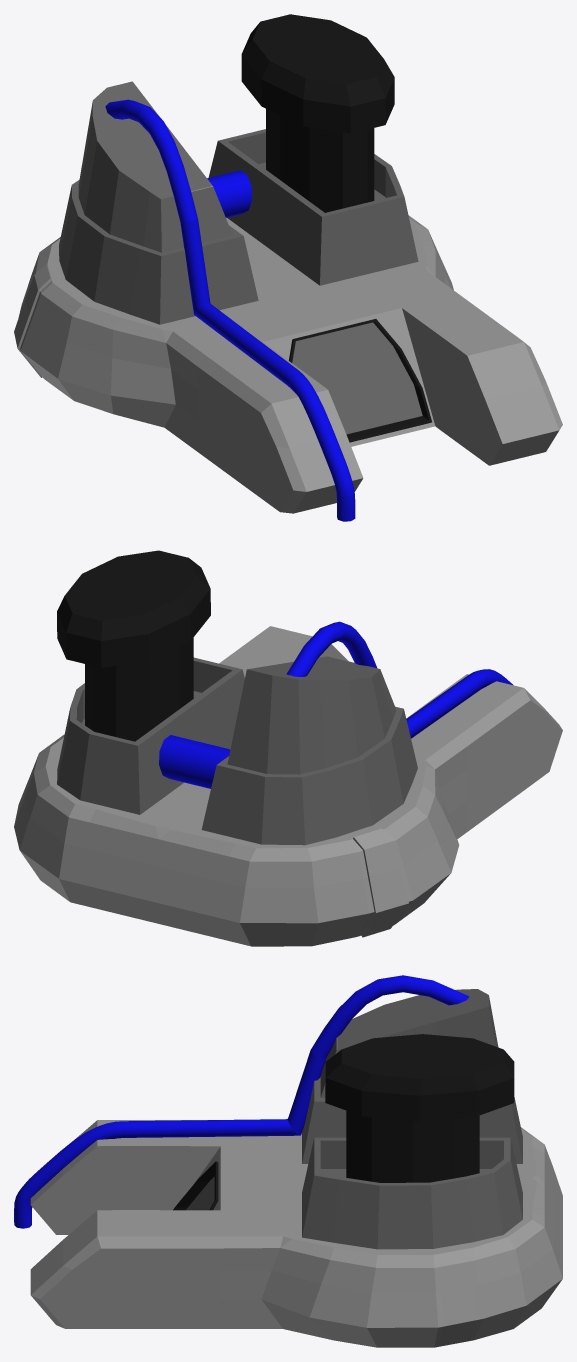
File: Tech_Lab_Human.FBX
The picture shows the model from 3 angles, top to bottom: view 1: azimuth 30°, elevation 25°; view 2: azimuth 150°, elevation 25°; view 3: azimuth 270°, elevation 25°; orthographic projection. The views are drawn at different scales.
Parts seen in each view (by area): view 1: Box001, Cylinder001, Line001, Cylinder002; view 2: Box001, Cylinder001, Line001, Cylinder002; view 3: Box001, Cylinder001, Line001.
Part boxes in pixels (x1=…): Box001: x1=14, y1=81, x2=562, y2=513; Cylinder001: x1=241, y1=14, x2=394, y2=212; Line001: x1=105, y1=99, x2=355, y2=521; Cylinder002: x1=207, y1=170, x2=252, y2=217; Box001: x1=14, y1=626, x2=562, y2=946; Cylinder001: x1=57, y1=550, x2=210, y2=741; Line001: x1=286, y1=621, x2=513, y2=738; Cylinder002: x1=159, y1=735, x2=230, y2=788; Box001: x1=30, y1=989, x2=562, y2=1347; Cylinder001: x1=325, y1=1034, x2=514, y2=1182; Line001: x1=14, y1=975, x2=468, y2=1228.
Size of the model in its own units: 350 by 229 by 448.
